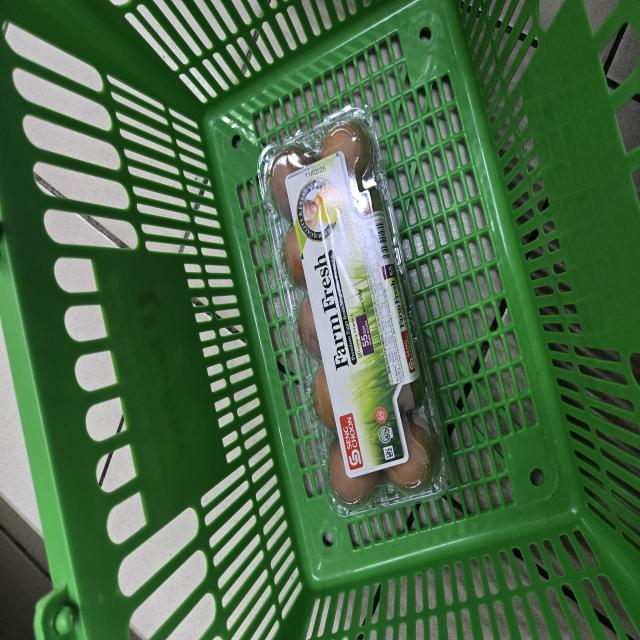eggs: (257, 103, 453, 520)
